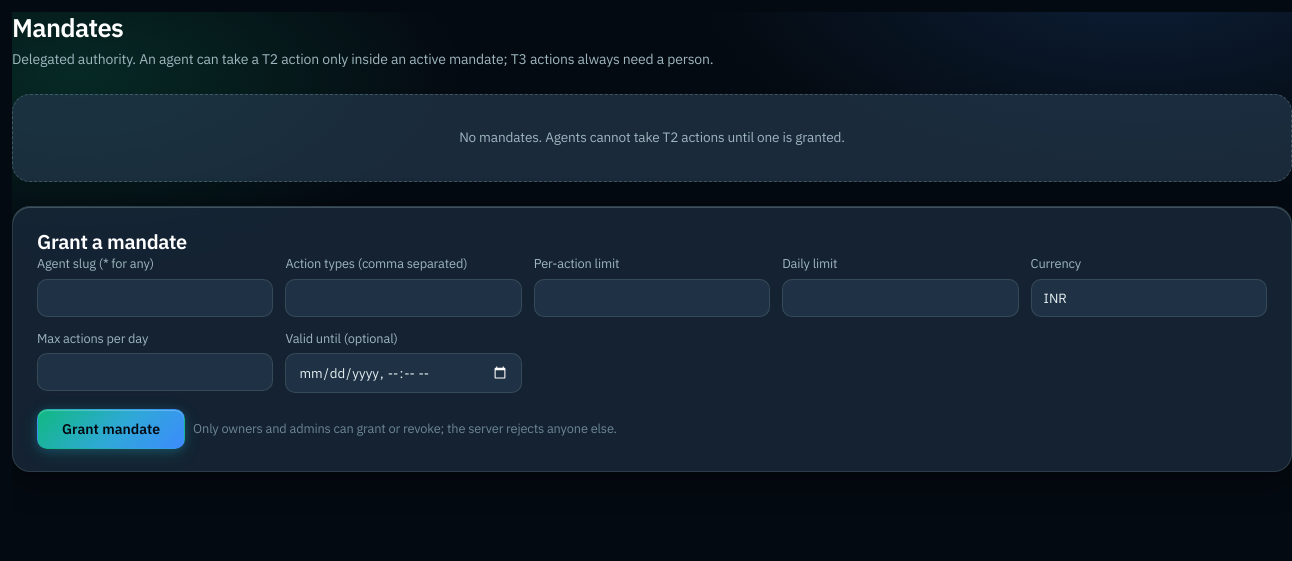
Test: Mandates › a forbidden grant shows the server message, not success
Check: the text "No mandates" is shown, box [459,128,845,146]
Type "billing" into the field labelled "Agent slug (* for any)" at (155,298), box [37,279,273,317]
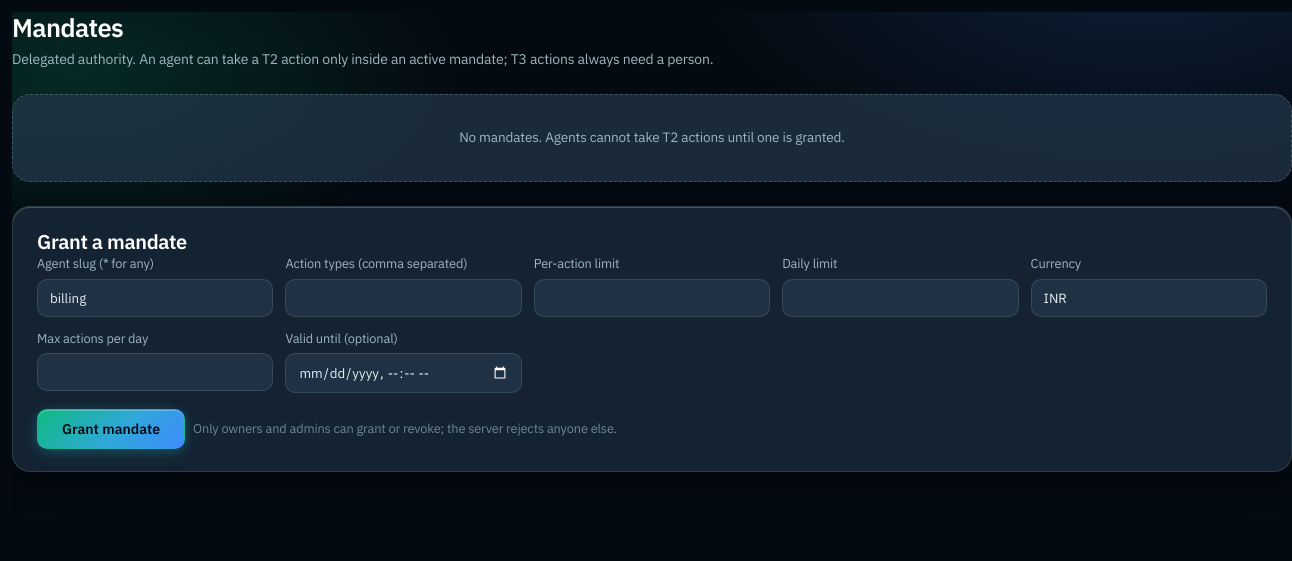
Type "refund" into the field labelled "Action types (comma separated)" at (404,298), box [285,279,522,317]
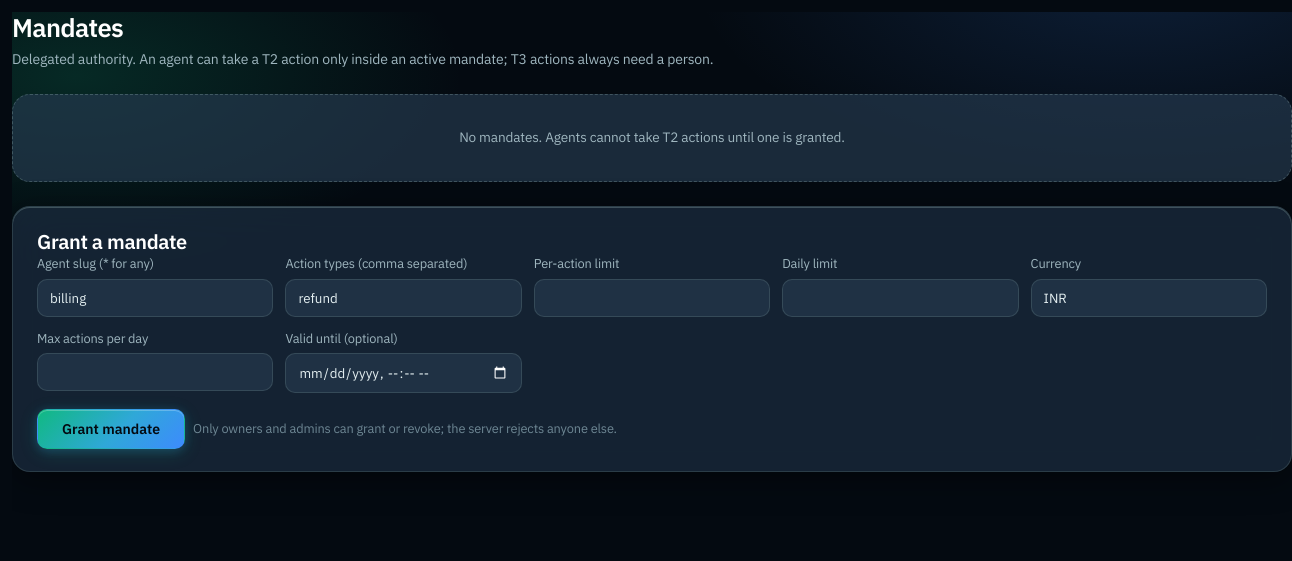
Click the button "Grant mandate" at (111,429), box [37,409,185,449]
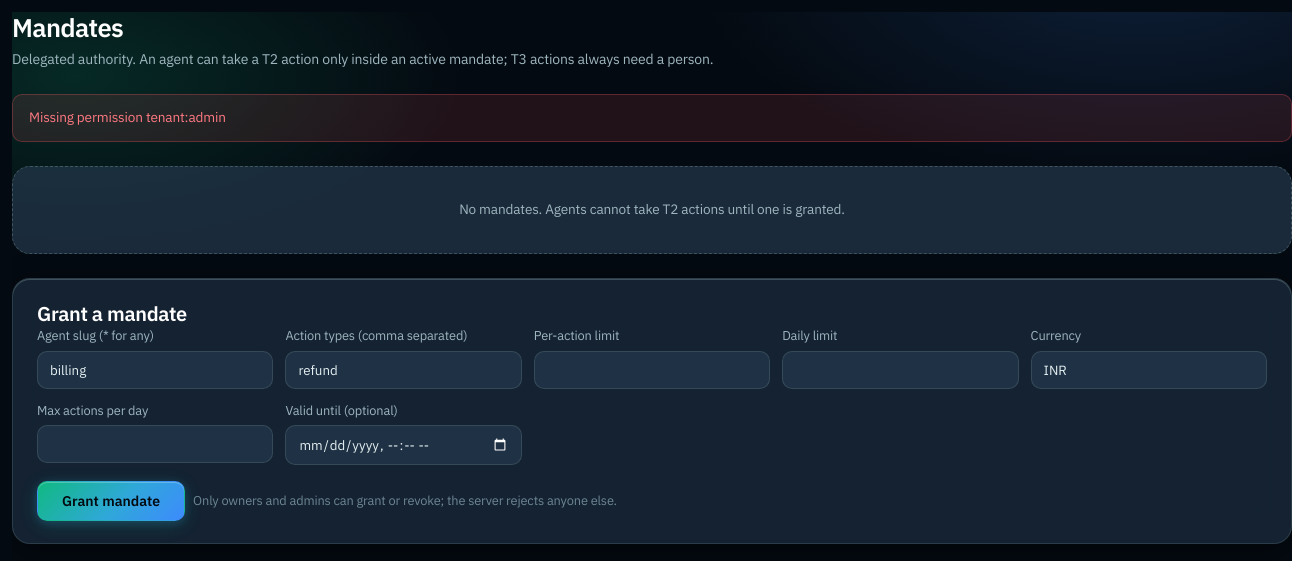
Check: the message reads "Missing permission tenant:admin", box [29,108,226,126]
